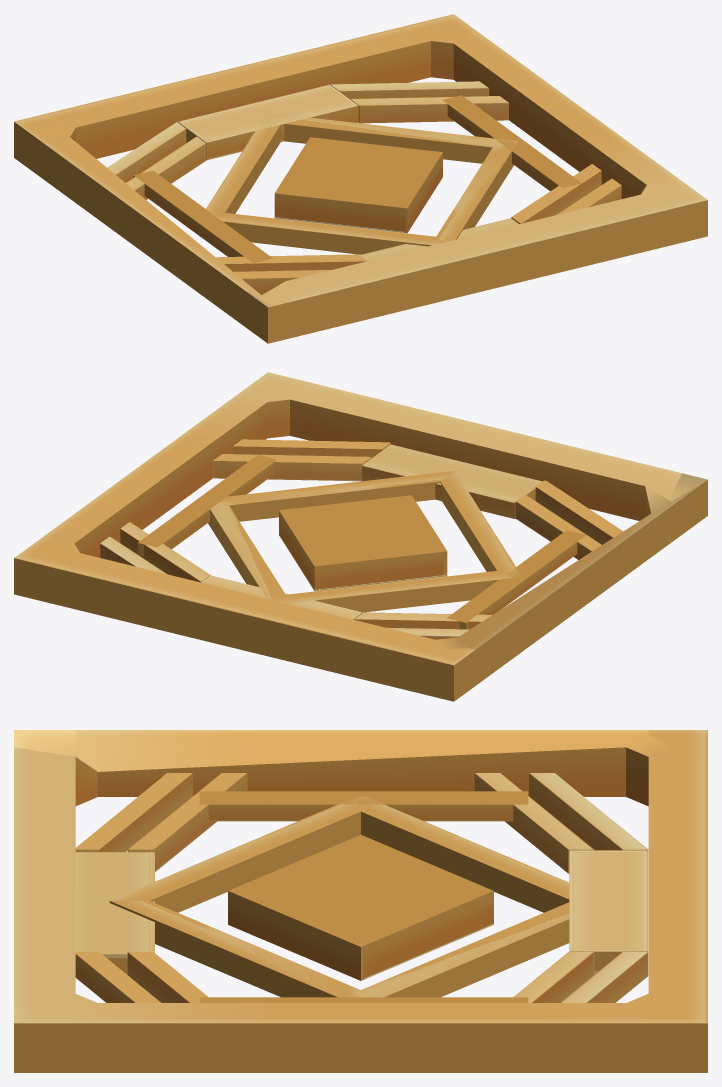
Rendered from toppiece.fbx.
3 renders of one model, top to bottom at view 1: azimuth 30°, elevation 25°; view 2: azimuth 150°, elevation 25°; view 3: azimuth 270°, elevation 25°, orthographic. The views are drawn at different scales.
Visible parts, largest first — view 1: polySurface36; view 2: polySurface36; view 3: polySurface36.
Part boxes in pixels (left/top/right/bottom): polySurface36: left=14, top=14, right=707, bottom=343; polySurface36: left=14, top=372, right=707, bottom=701; polySurface36: left=14, top=730, right=707, bottom=1072.
Size of the model in its own units: 6 by 0.4735 by 6.
1 material, 1 textured.
